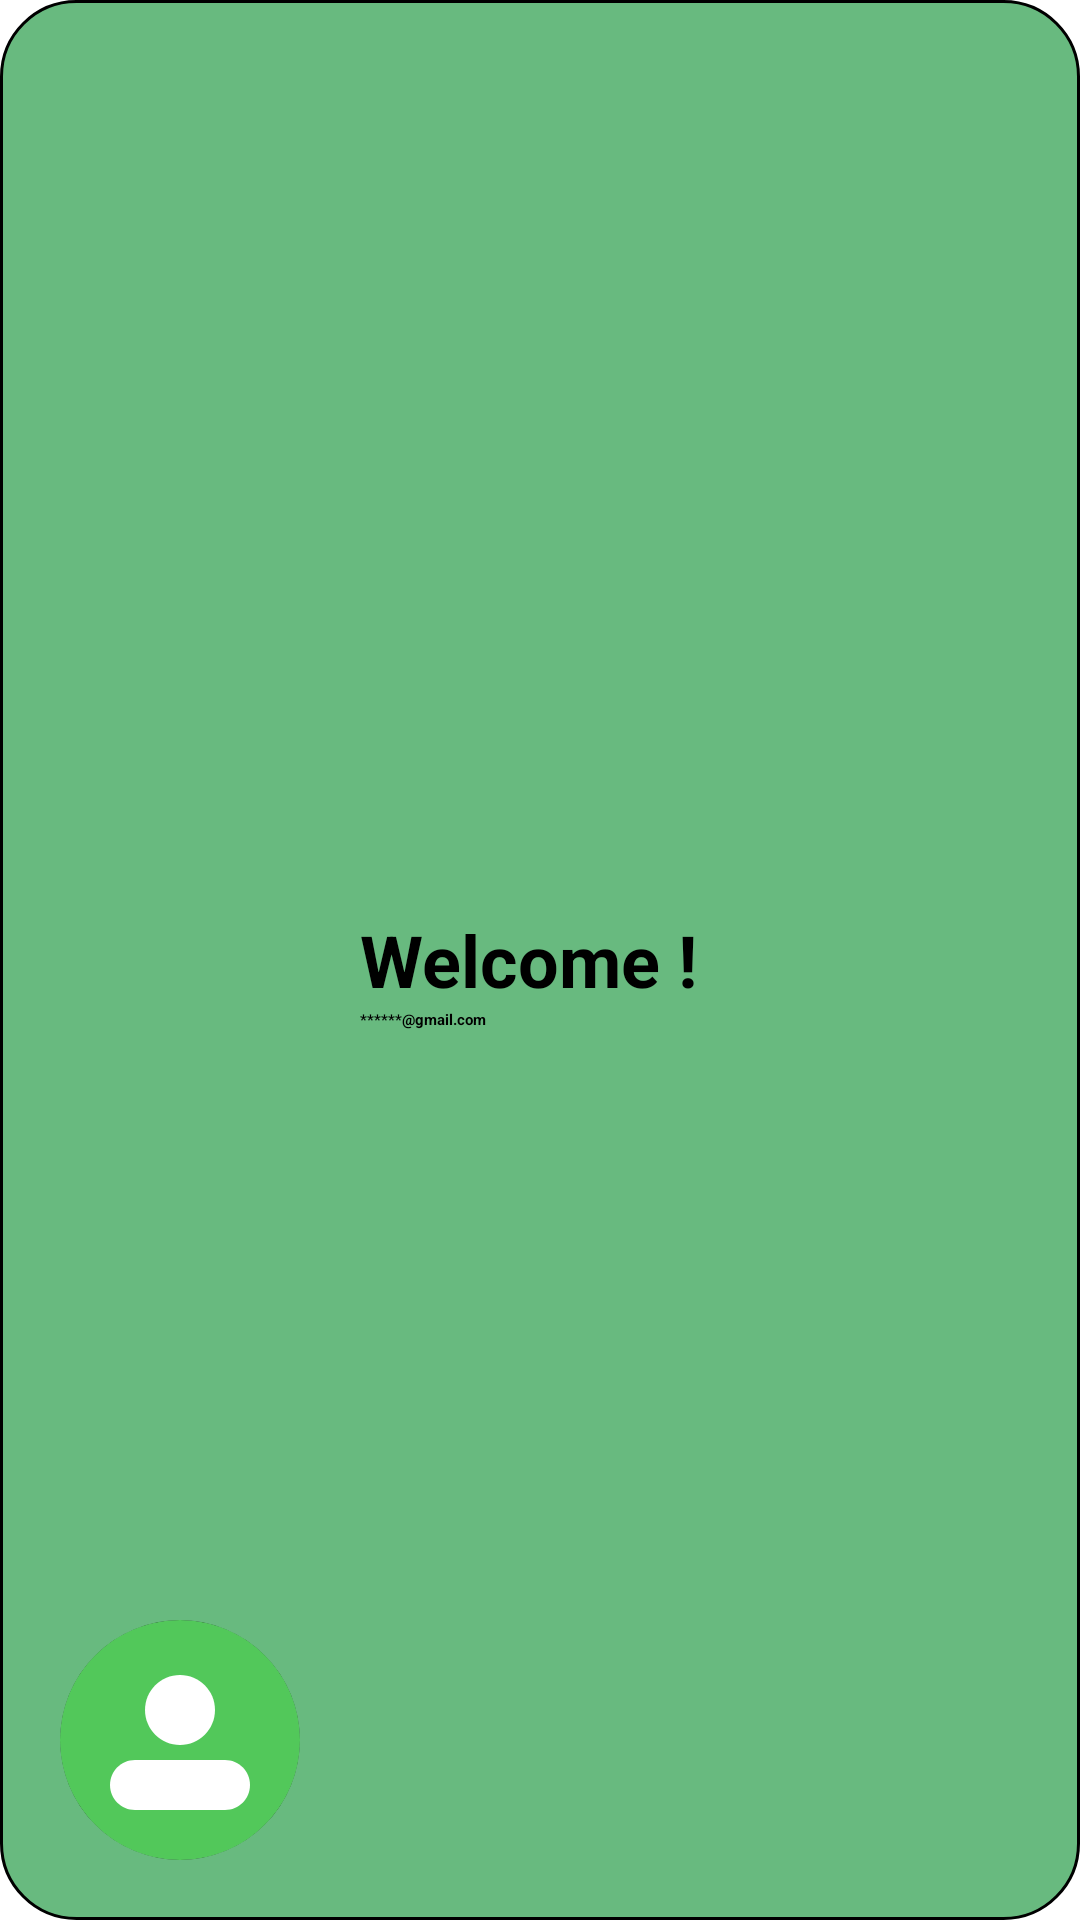

Named icons in this screenshot (1080×1920) and their bounding boxes, (x1, y1, x2, y2):
fragment profile: (60, 1620, 300, 1860)
